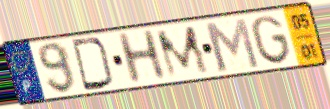9: (37, 40, 78, 96)
D: (69, 36, 117, 93)
G: (249, 13, 294, 66)
H: (114, 27, 170, 87)
M: (201, 16, 263, 74), (153, 24, 212, 81)
